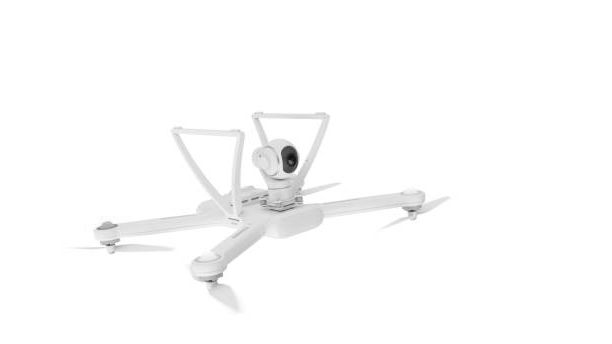Drone: (65, 108, 451, 311)
